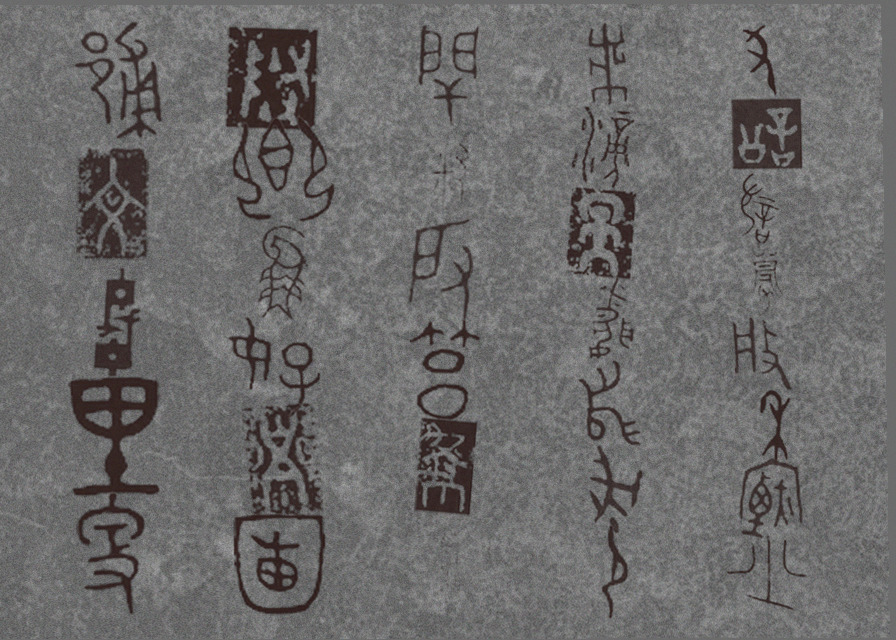char: (64, 373, 164, 499), (229, 114, 338, 223), (69, 19, 163, 142), (220, 24, 324, 135), (238, 401, 326, 522), (230, 511, 329, 617), (226, 315, 323, 420), (73, 489, 149, 617), (74, 145, 152, 263), (407, 316, 485, 424), (405, 216, 476, 326), (564, 184, 639, 281), (410, 415, 480, 518), (416, 23, 482, 128), (725, 533, 810, 612), (568, 104, 637, 190), (91, 265, 143, 379), (576, 359, 643, 447), (736, 457, 807, 540), (729, 95, 804, 172), (586, 443, 646, 536), (255, 223, 311, 321), (730, 316, 793, 392), (427, 122, 473, 222), (586, 275, 636, 361), (586, 20, 629, 107), (737, 170, 781, 246), (746, 239, 786, 321), (600, 522, 633, 621), (740, 23, 779, 98), (758, 387, 792, 468), (437, 521, 466, 612)
